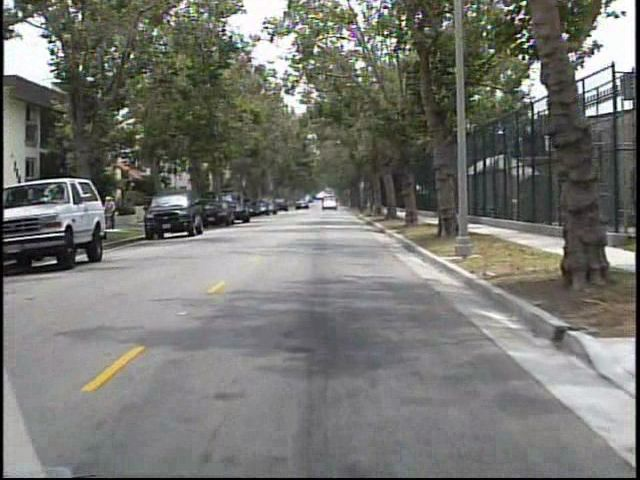person: (99, 191, 120, 235)
